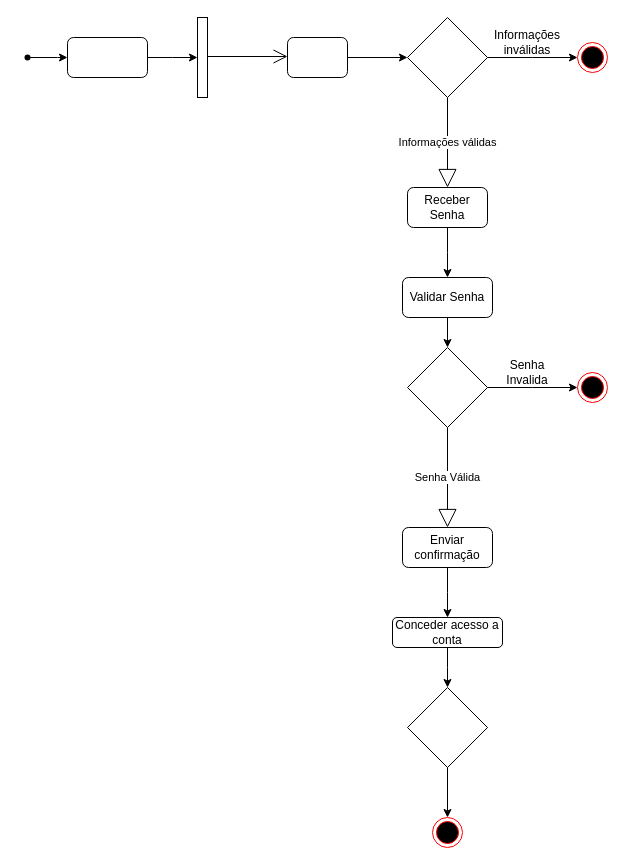
Some shapes in this 625 by 865 pixel diagram are drawn without their labels. Here are the shapes that lost their labels. From the top down, the box of each, then its label:
(66, 36, 148, 78): Receber informações de login
(286, 36, 348, 78): Verificar dados
